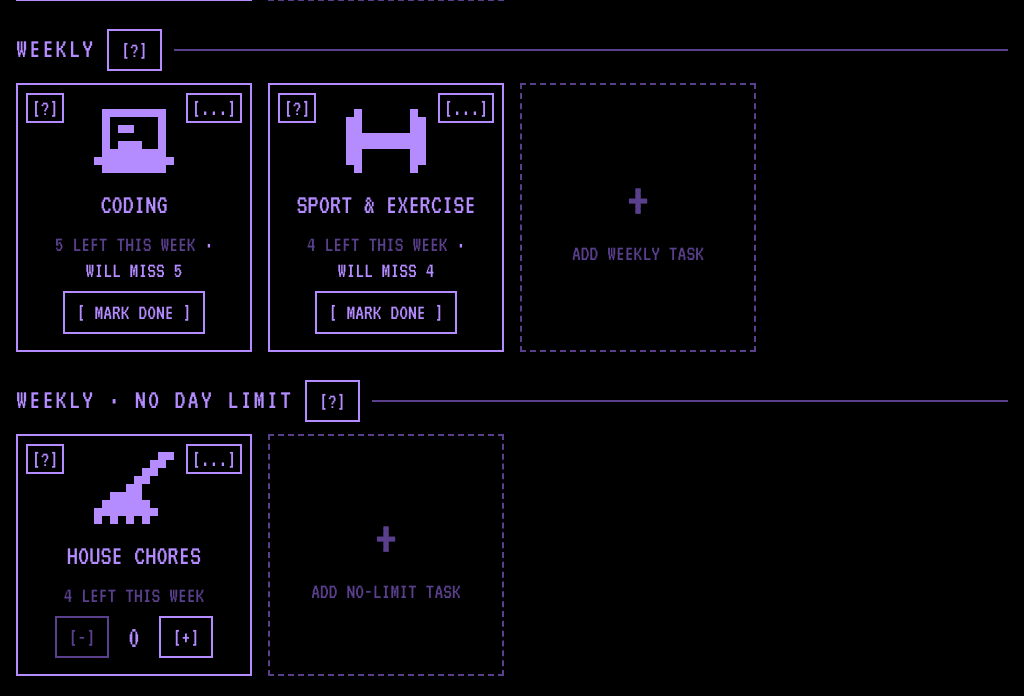
it: App › counts today as missed on weekly tasks until it is done
(page scrolled)
Check: the text "· WILL MISS 5" is shown, box left=86, top=232, right=213, bottom=281
Click the button "[ MARK DONE ]" below "5 LEFT THIS WEEK".
click(134, 312)  # box left=63, top=291, right=205, bottom=334
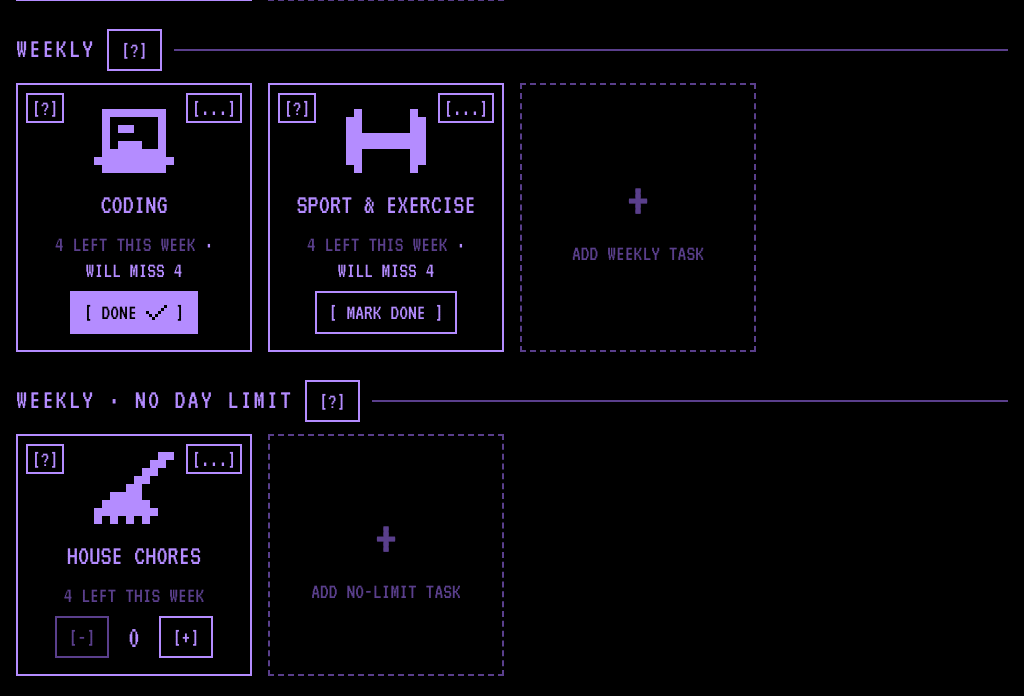
Check: the text "· WILL MISS 4" below "CODING" is shown, box left=86, top=232, right=213, bottom=281
Click the button "[ DONE ]".
click(134, 312)  # box left=70, top=291, right=198, bottom=334
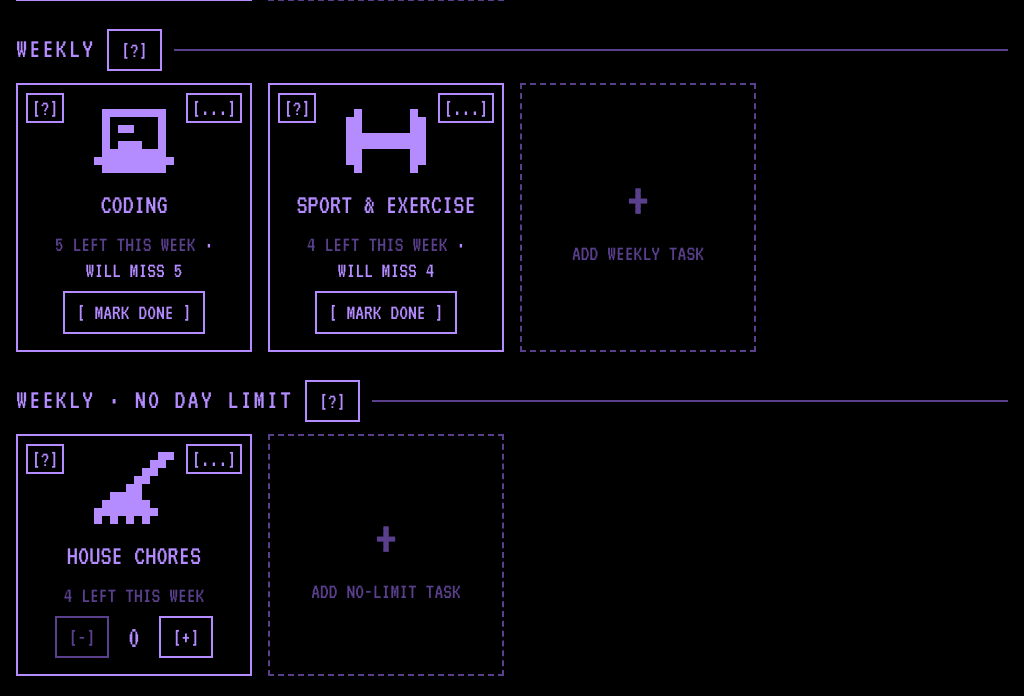
Check: the text "· WILL MISS 5" is shown, box left=86, top=232, right=213, bottom=281
